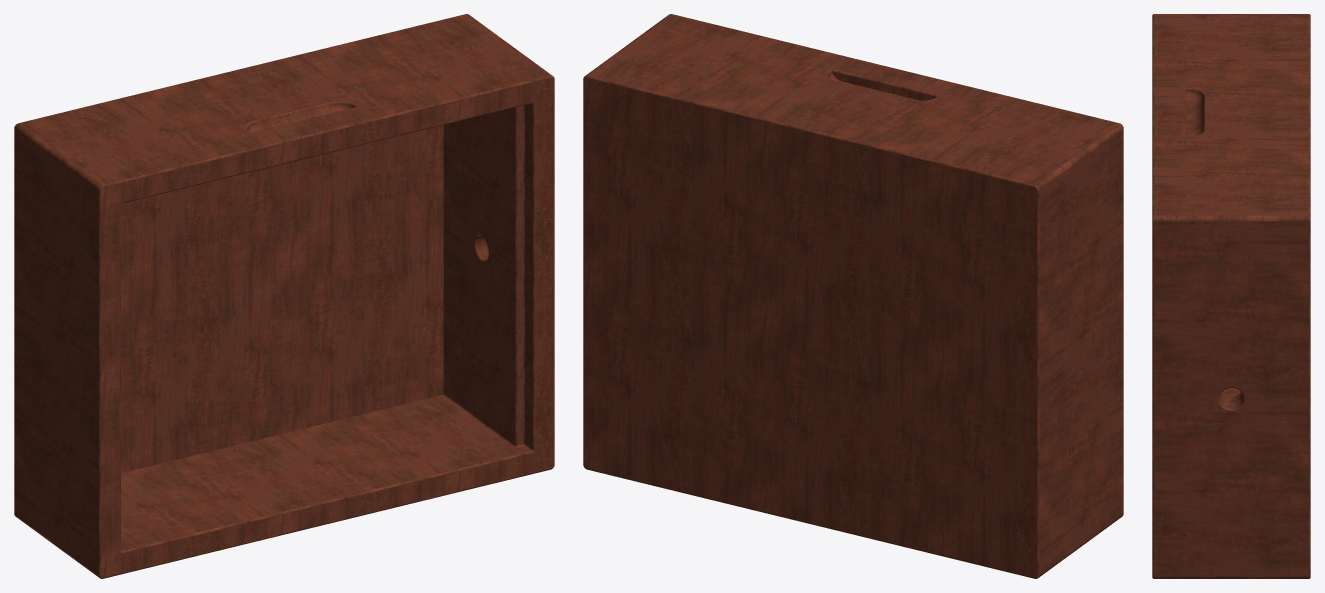
File: bottom.obj
3 views of the same model, side by side, from view 1: azimuth 30°, elevation 25°; view 2: azimuth 150°, elevation 25°; view 3: azimuth 270°, elevation 25° (orthographic). The views are drawn at different scales.
Visible parts, largest first — view 1: bottom; view 2: bottom; view 3: bottom.
Part boxes in pixels (x1,y1,x2,y2): bottom: [14, 14, 554, 578]; bottom: [583, 14, 1123, 578]; bottom: [1152, 14, 1310, 578].
Bounding box in the file's own units: 515 × 425 × 168.
1 material, 1 textured.
